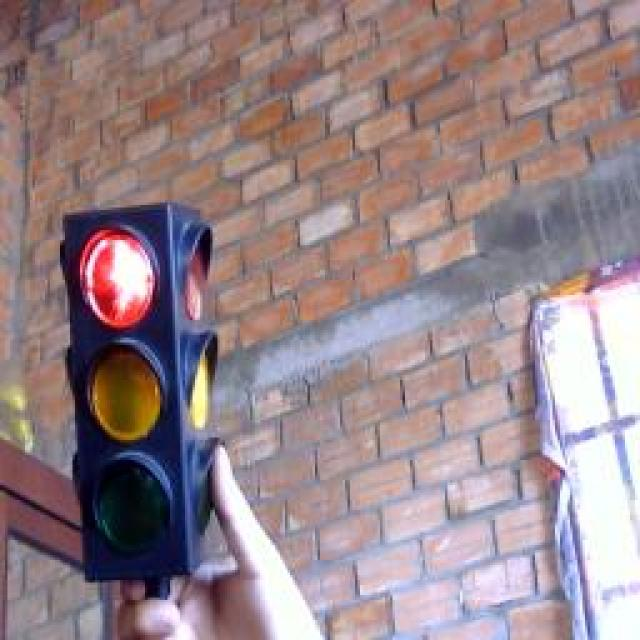-: (71, 220, 169, 337)
